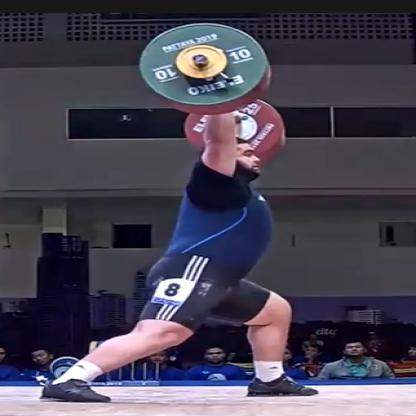Barbell: (192, 54, 213, 67)
